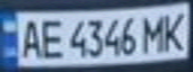3: (84, 16, 106, 57)
4: (66, 16, 87, 58), (103, 15, 124, 56)
6: (118, 14, 142, 56)
A: (15, 16, 45, 61)
E: (36, 16, 66, 60)
K: (157, 7, 193, 52)
M: (139, 10, 169, 54)
